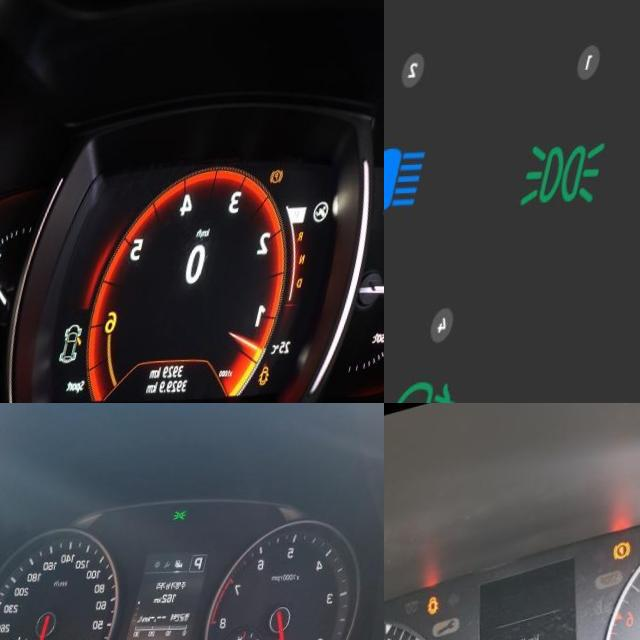Doors: (436, 595, 455, 616), (277, 369, 292, 389)
FrontFogLight: (407, 382, 483, 403)
SideLamp: (531, 142, 618, 214), (187, 511, 202, 523)
